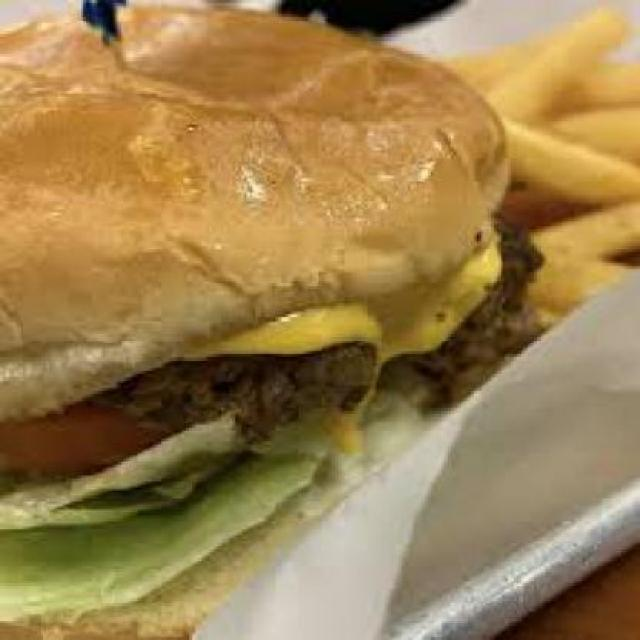french fries: (450, 2, 638, 298)
